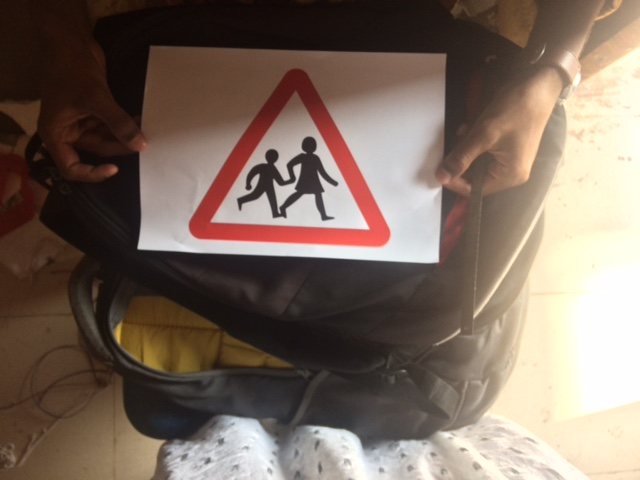sign: (187, 67, 398, 250)
